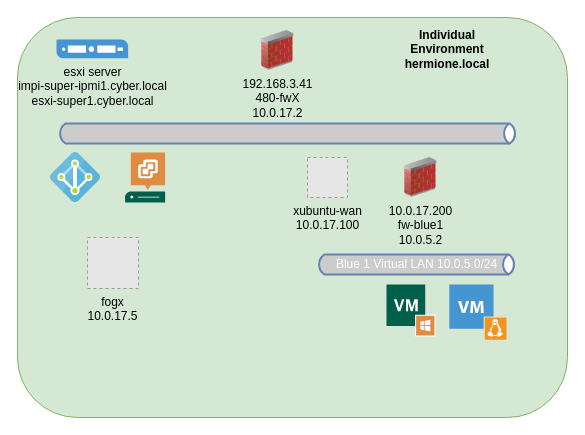
Some shapes in this 585 by 435 pixel diagram are drawn without their labels. Grey dashed boxes stand in for pictures. The shapes that lost their labels are listed below. From the top down, each one's centre as x and y in pixels, then its label:
At (287,133): "Virtual WAN 10.0.17.0/24".
At (75,177): "dc1 10.0.17.4".
At (145,177): "vcenter 10.0.17.3".
